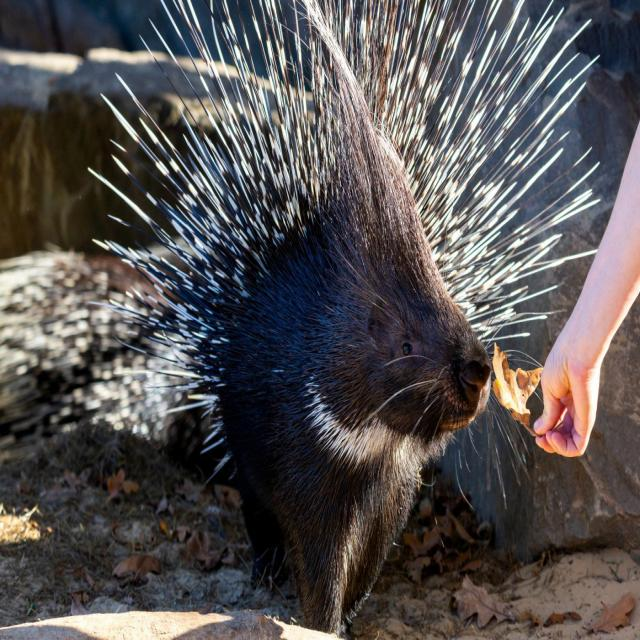porcupine: (0, 0, 598, 632)
